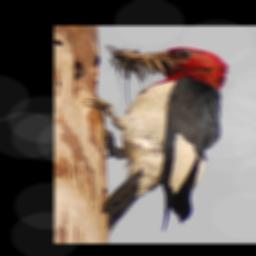Woodpecker: (83, 47, 228, 234)
